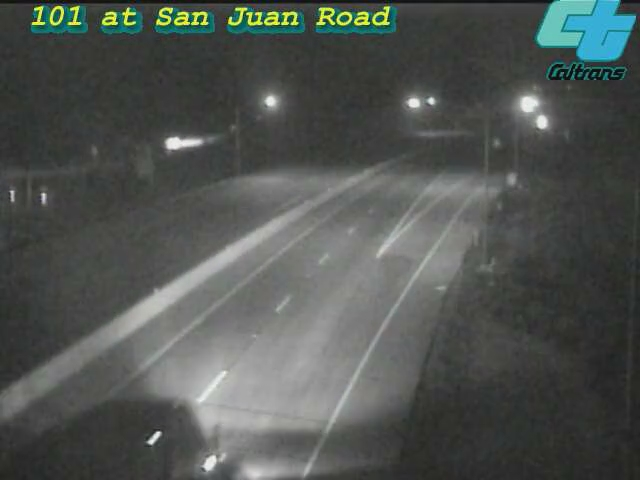vehicle: (62, 397, 172, 480), (521, 97, 571, 147), (504, 79, 554, 129)
